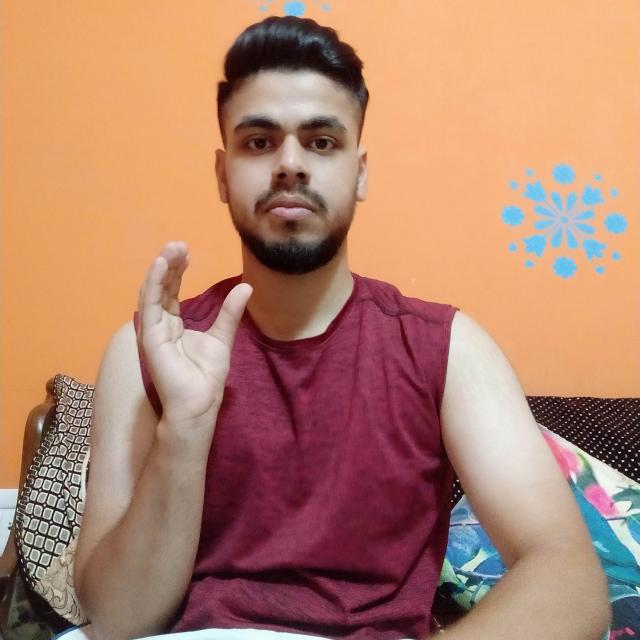U: (118, 235, 258, 422)
